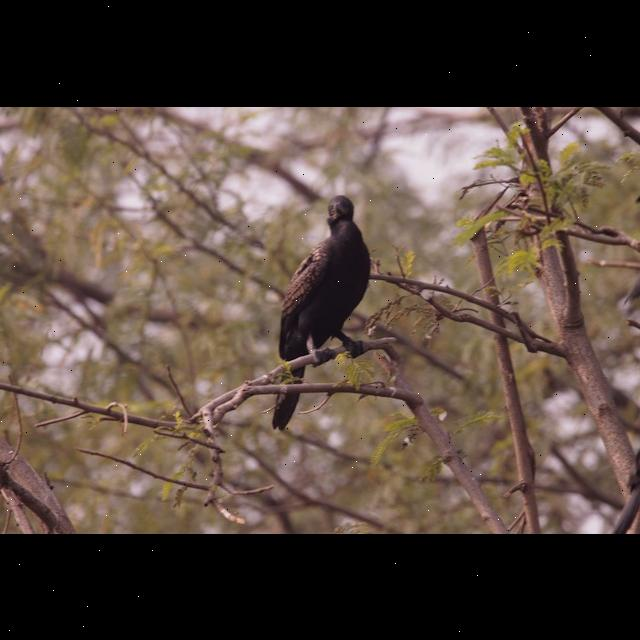cormorant: (268, 190, 374, 432)
